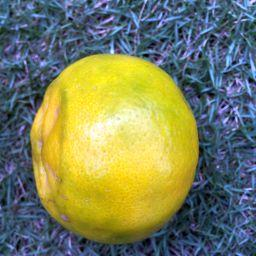orange: (28, 52, 201, 246)
